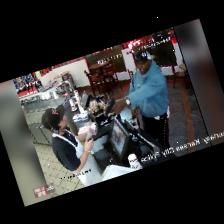person: (111, 51, 169, 148), (41, 105, 100, 186)
